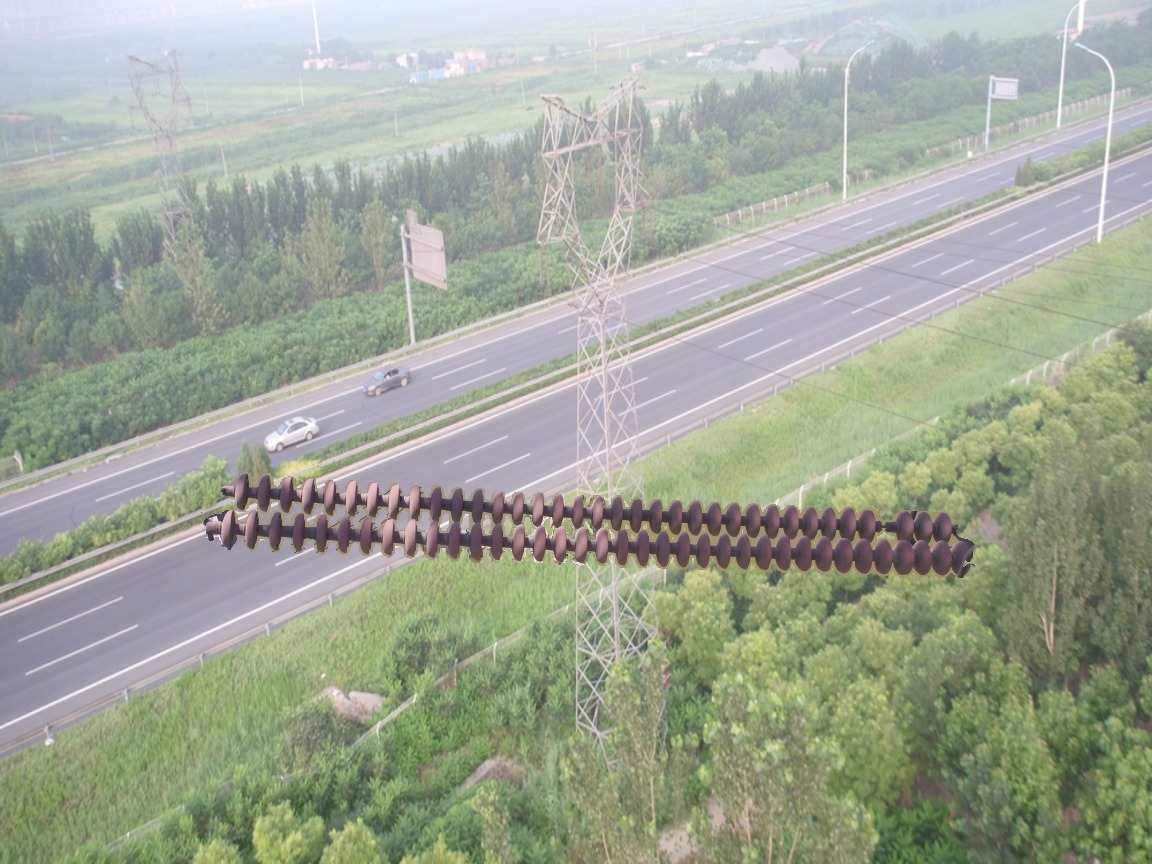defect: (858, 502, 917, 545)
